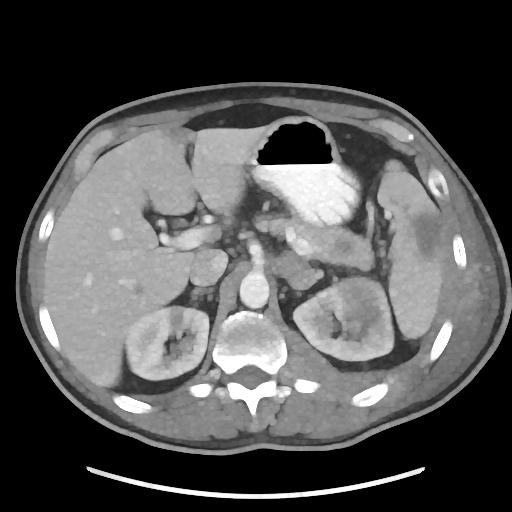Lesion: (334, 272, 388, 335)
